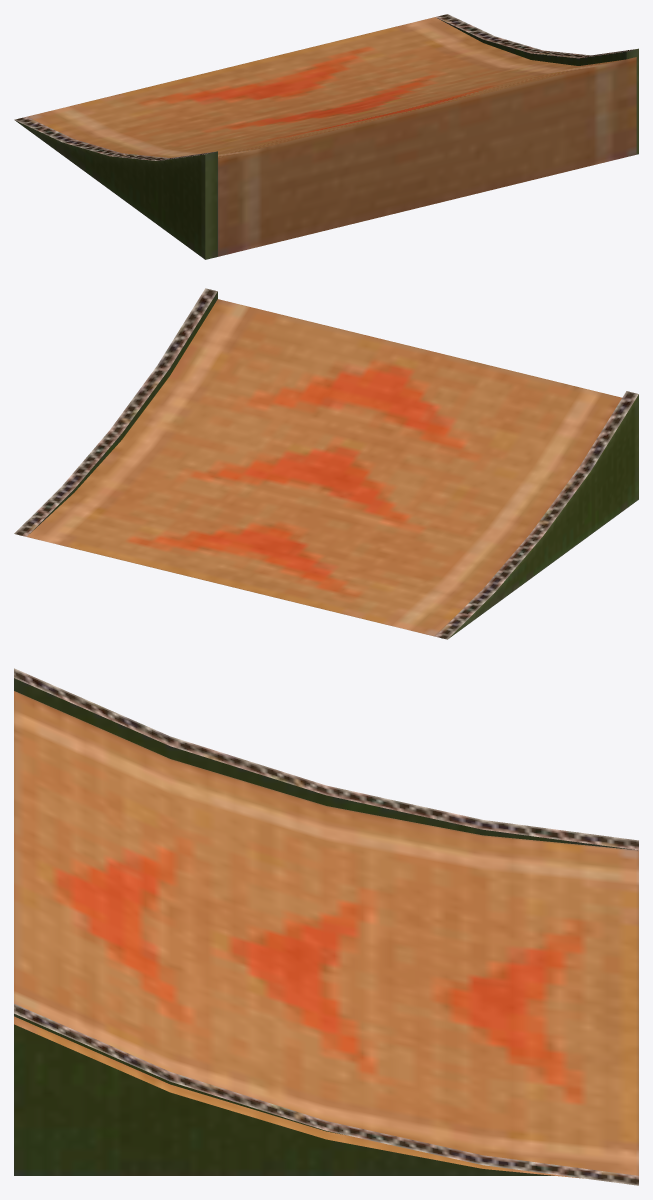
The model's file is ram.fbx.
The picture shows the model from 3 angles, top to bottom: view 1: azimuth 30°, elevation 25°; view 2: azimuth 150°, elevation 25°; view 3: azimuth 270°, elevation 25°; orthographic projection. The views are drawn at different scales.
Parts seen in each view (by area): view 1: ram; view 2: ram; view 3: ram.
Part boxes in pixels (box(x1,y1,x2,y2)): ram: box(14, 14, 638, 259); ram: box(14, 288, 638, 639); ram: box(14, 668, 638, 1185).
Bounding box in the file's own units: 771 × 179 × 589.
